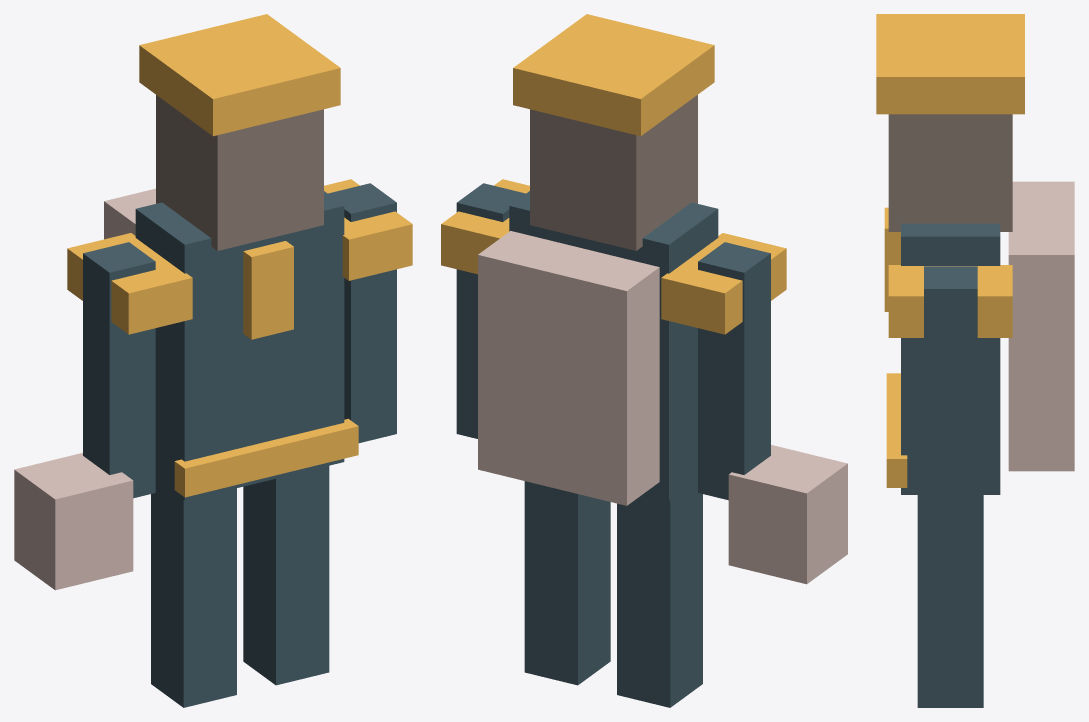
Rendered from 18_keir_starfall_warden_at_observation.glb.
3 views of the same model, side by side, from view 1: azimuth 30°, elevation 25°; view 2: azimuth 150°, elevation 25°; view 3: azimuth 270°, elevation 25° (orthographic).
Visible parts, largest first — view 1: Keir Starfall, Warden at Observation; view 2: Keir Starfall, Warden at Observation; view 3: Keir Starfall, Warden at Observation.
Boxes of the visible parts, bbox=[...] form: Keir Starfall, Warden at Observation: bbox=[14, 14, 412, 707]; Keir Starfall, Warden at Observation: bbox=[441, 14, 847, 707]; Keir Starfall, Warden at Observation: bbox=[876, 14, 1074, 707].
Size of the model in its own units: 1.02 by 1.71 by 0.4899.
